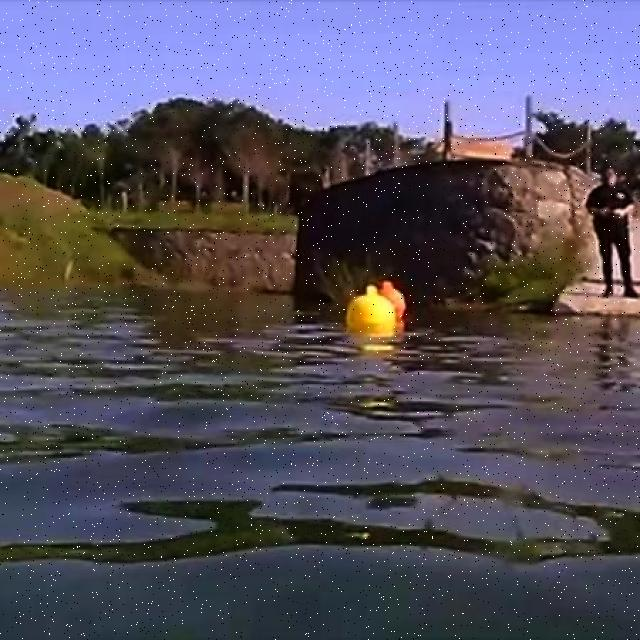buoy: (347, 286, 395, 336), (379, 281, 407, 316)
